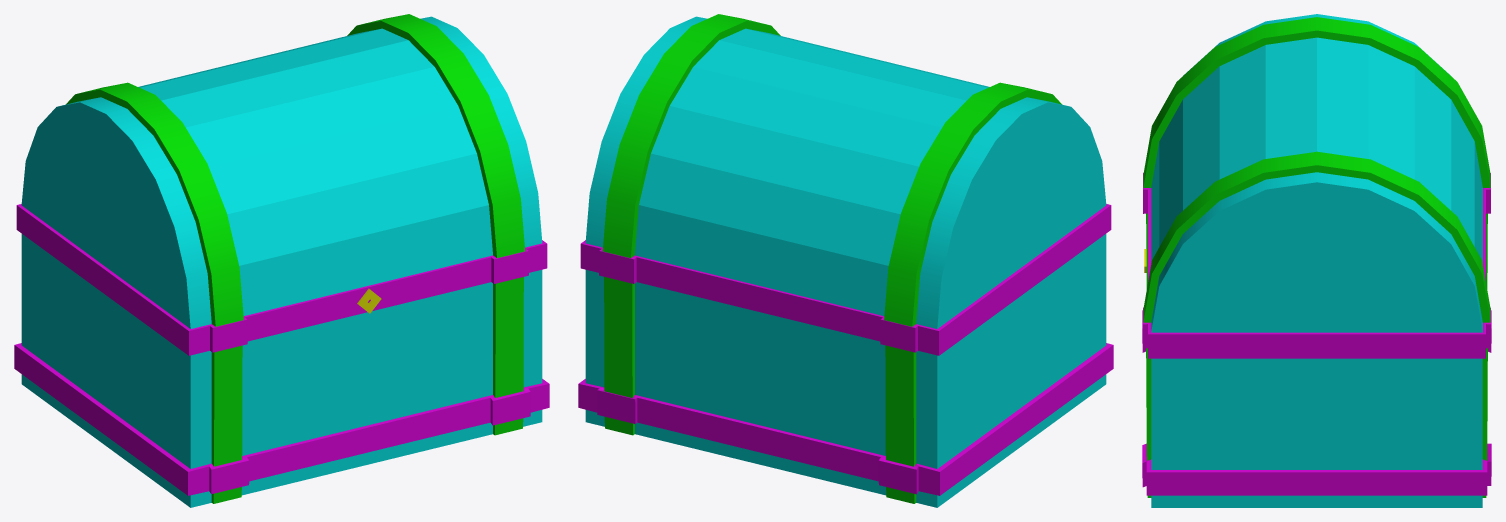
The model's file is chest.fbx.
The picture shows the model from 3 angles, left to right: view 1: azimuth 30°, elevation 25°; view 2: azimuth 150°, elevation 25°; view 3: azimuth 270°, elevation 25°; orthographic projection.
Parts seen in each view (by area): view 1: chest; view 2: chest; view 3: chest.
Part boxes in pixels (x1,y1,x2,y2): chest: (14, 14, 549, 507); chest: (578, 14, 1113, 507); chest: (1142, 14, 1491, 507).
Bounding box in the file's own units: 86.89 × 77.95 × 74.19.
